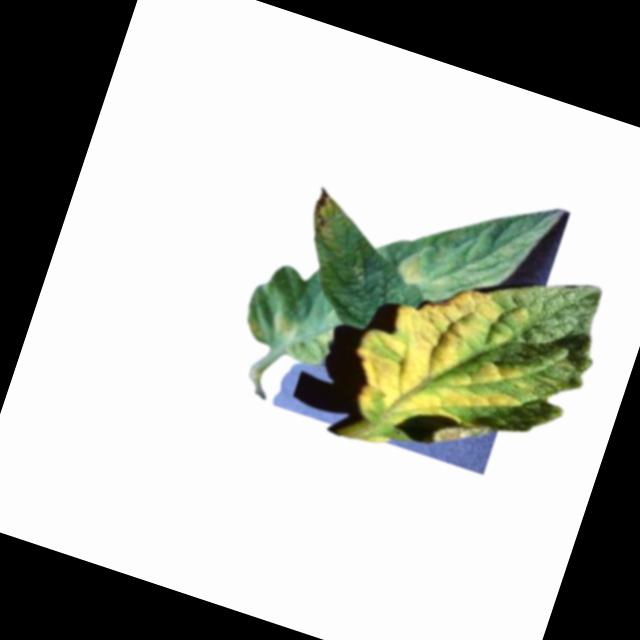Leaf_Mold: (336, 261, 585, 476), (302, 185, 356, 252), (394, 250, 454, 296)
